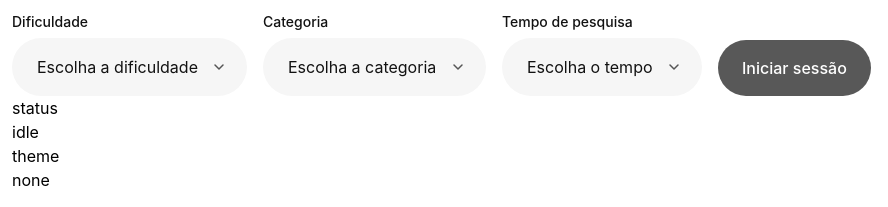
Test case: PracticeConfigForm › moves the practice session store to researching with the started session
This screenshot has width=888, height=207.
Select "Equilibrado" in the dropdown labelled "Dificuldade". click: (130, 67)
box: [12,38,247,96]
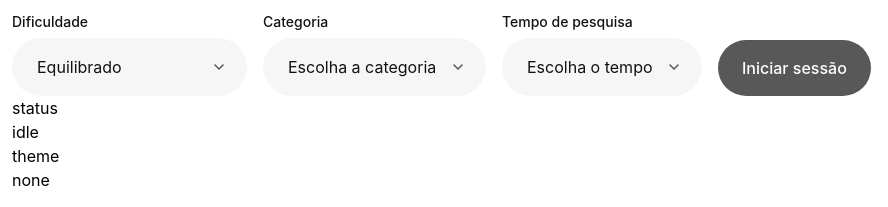
Select "Foco" in the dropdown labelled "Categoria". click: (374, 67)
box: [263,38,486,96]
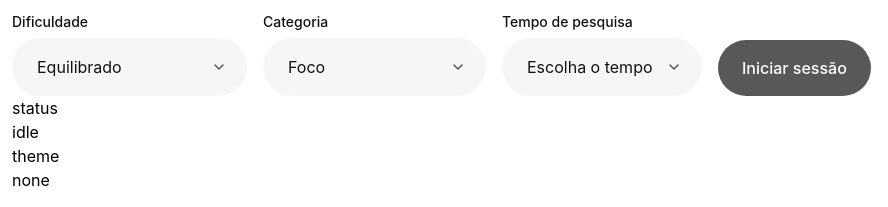
Select "4 minutos" in the dropdown labelled "Tempo de pesquisa". click: (602, 67)
box: [502,38,702,96]
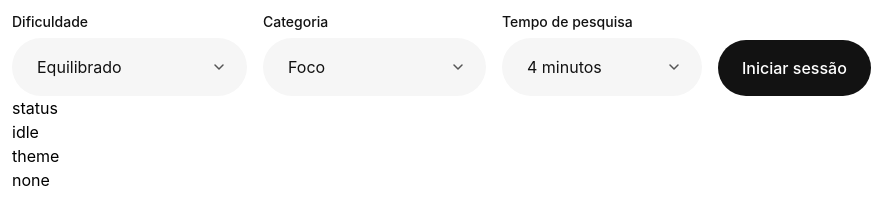
Click the button "Iniciar sessão". click: (794, 68)
box: [718,40,871,96]
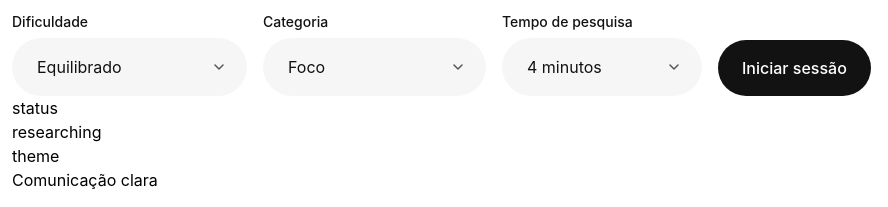
Result: the text "researching" is shown at [12,122,102,142]
Result: the text "Comunicação clara" is shown at [12,170,158,190]
